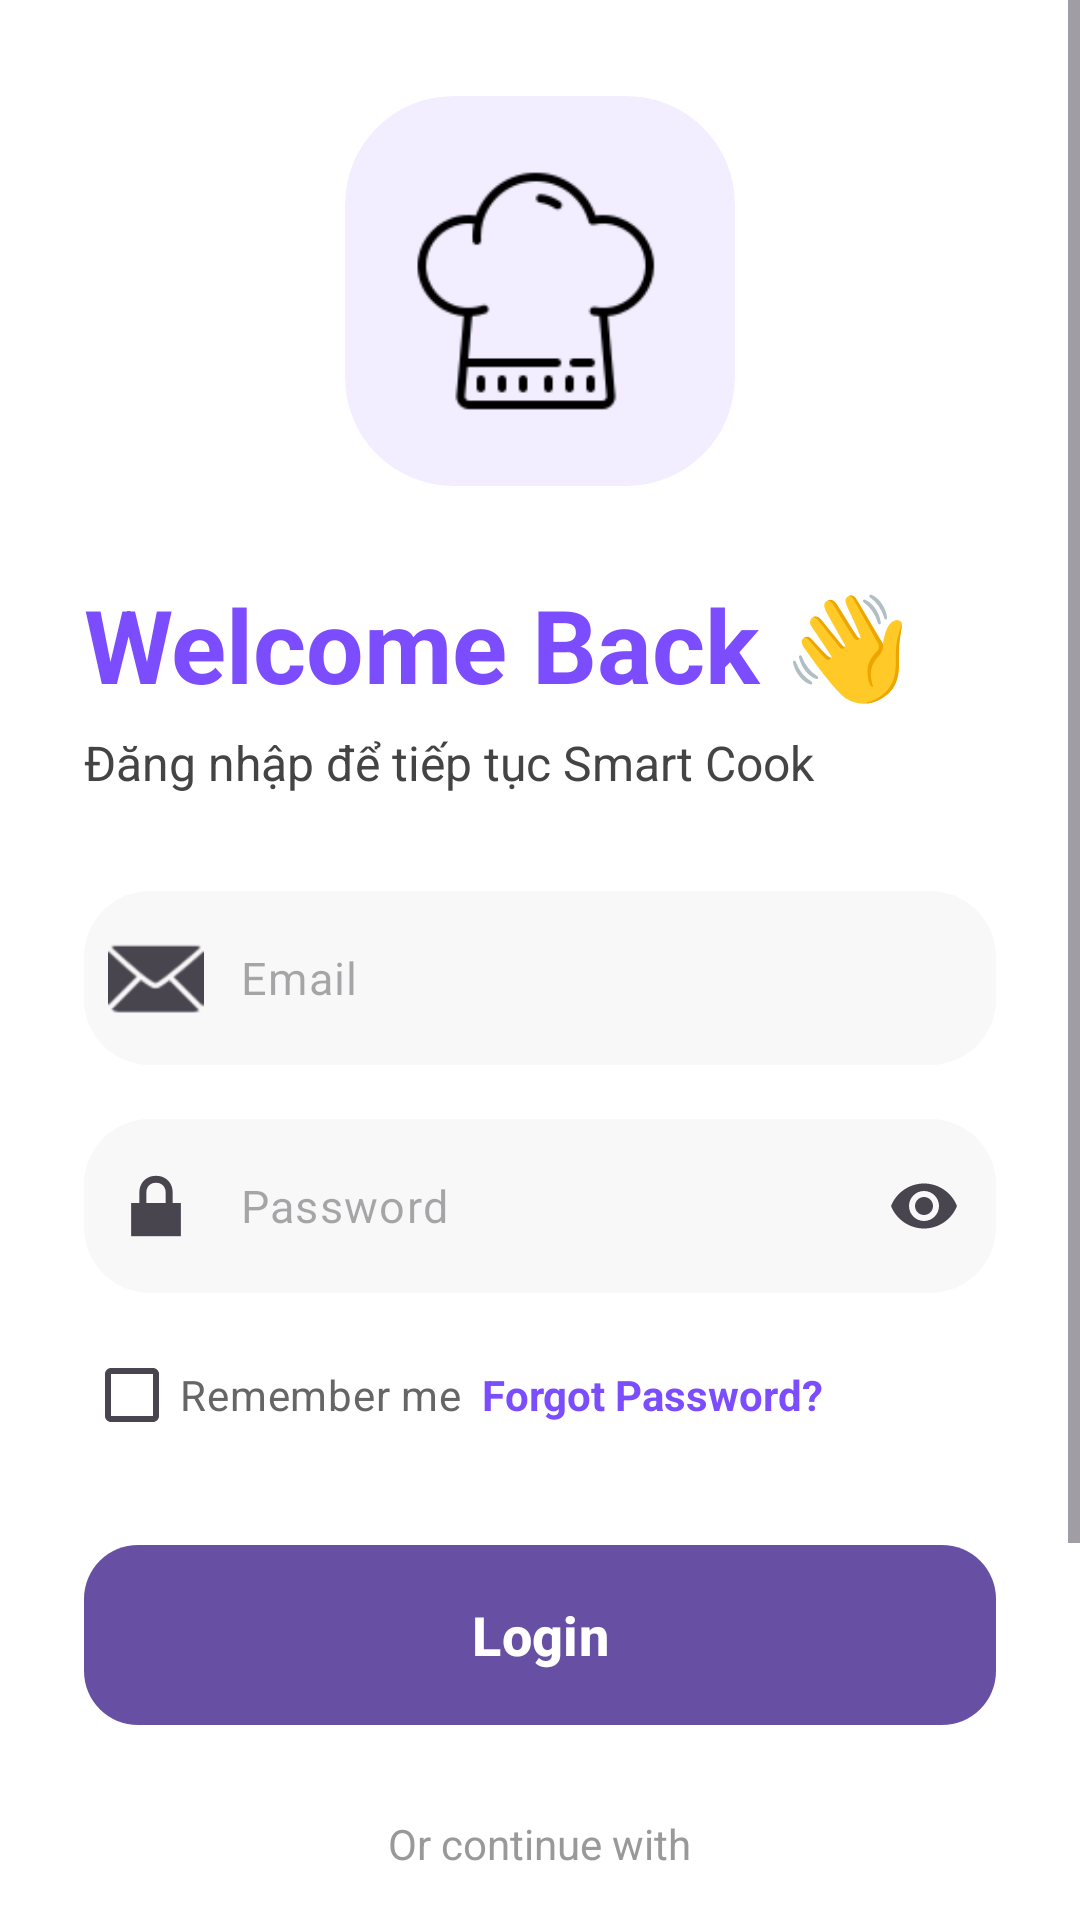

Icon bounding boxes for this 1080 × 1920 phone screenshot, format (x1, y1, x2, y2):
chef: (417, 172, 655, 410)
